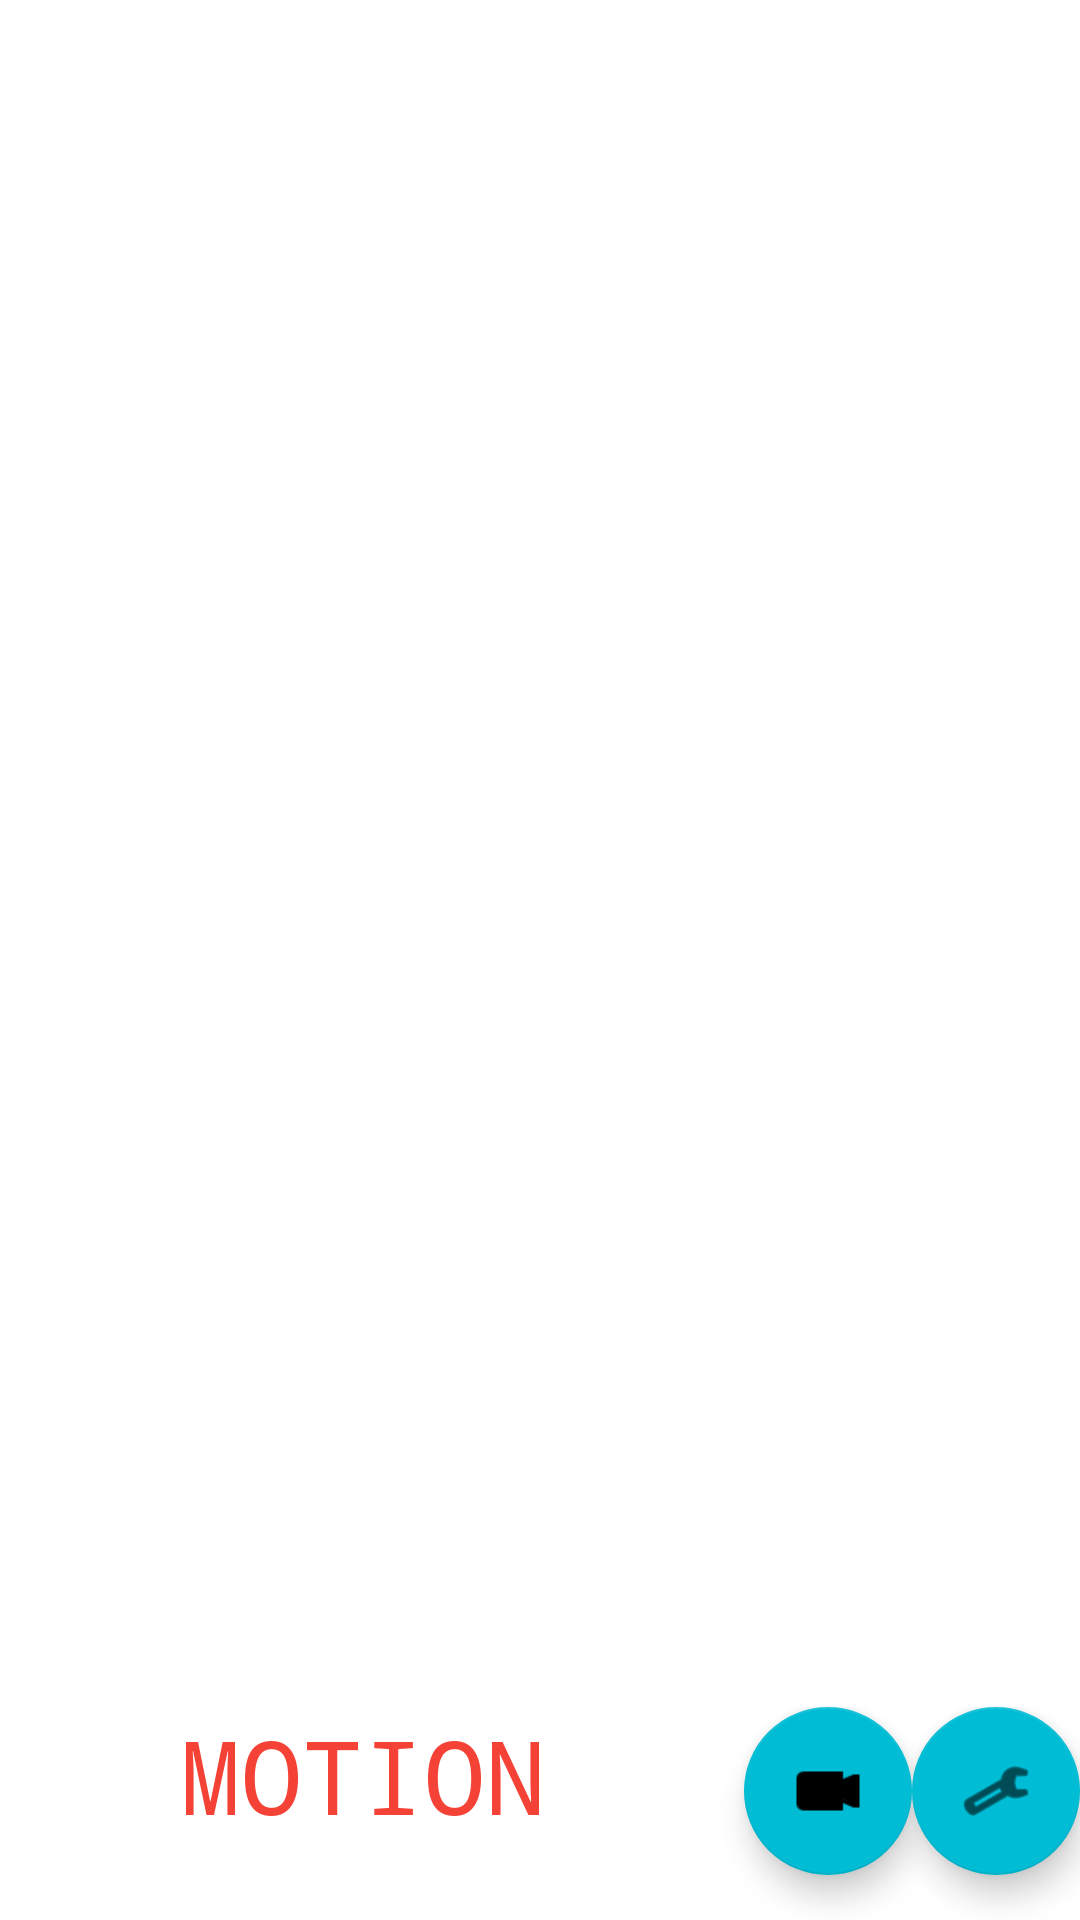

Point at icon controls on the screen. Image size 1080px×1920px, points as (x,y).
preferences: (996,1791)
presence video busy: (828,1791)
